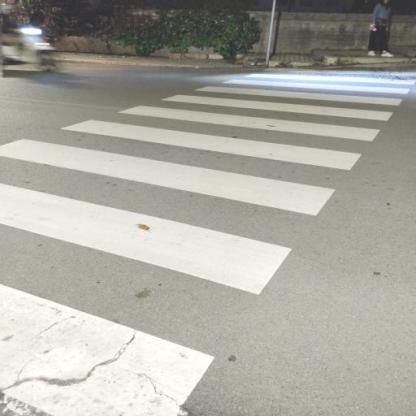crosswalk: (0, 135, 340, 301), (180, 77, 413, 110)
